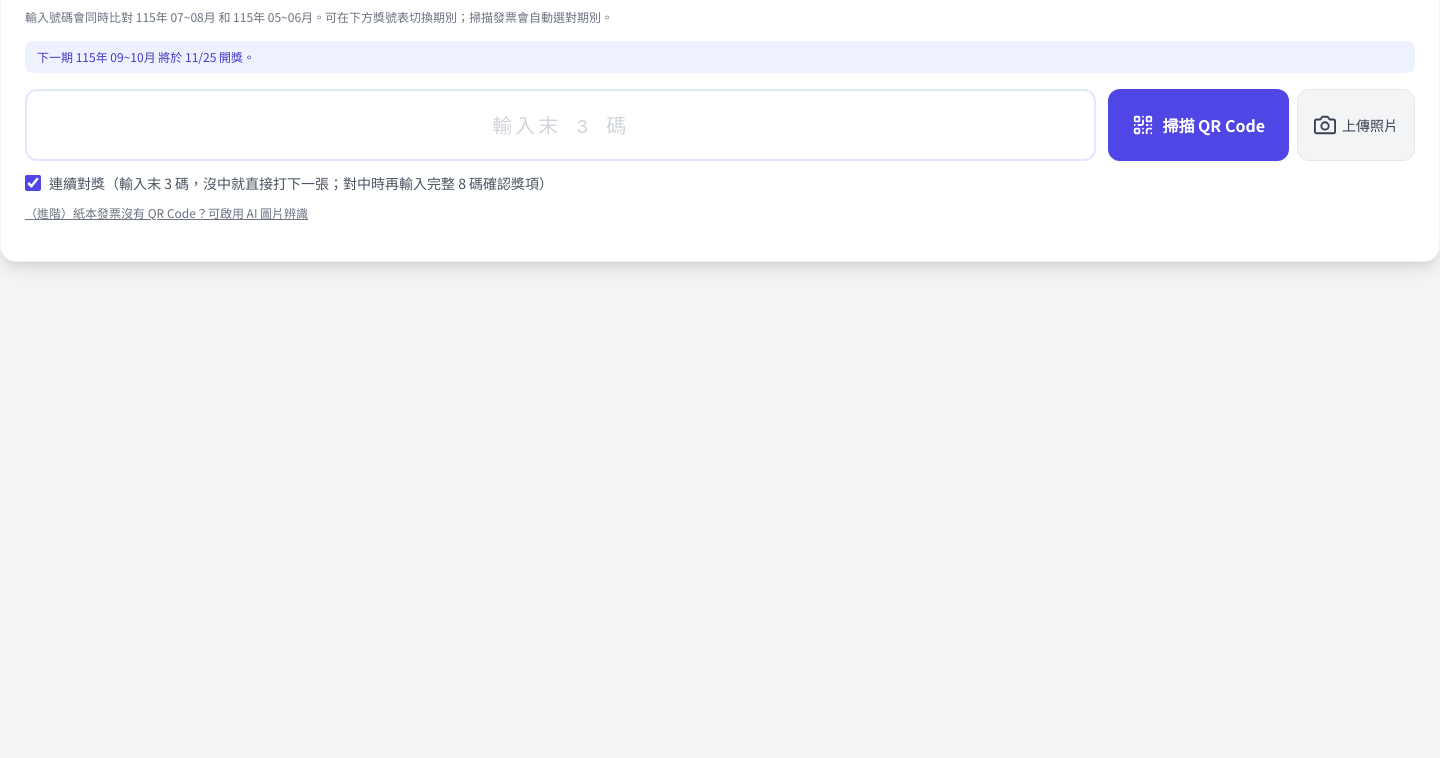
Test: 歷史紀錄 › 輸入停頓後自動存入，顯示日期、期別與結果
Type "54348835" into the field named "發票號碼" at (561, 125), box [25,89,1096,161]
Wait 12100 ms
(page scrolled)
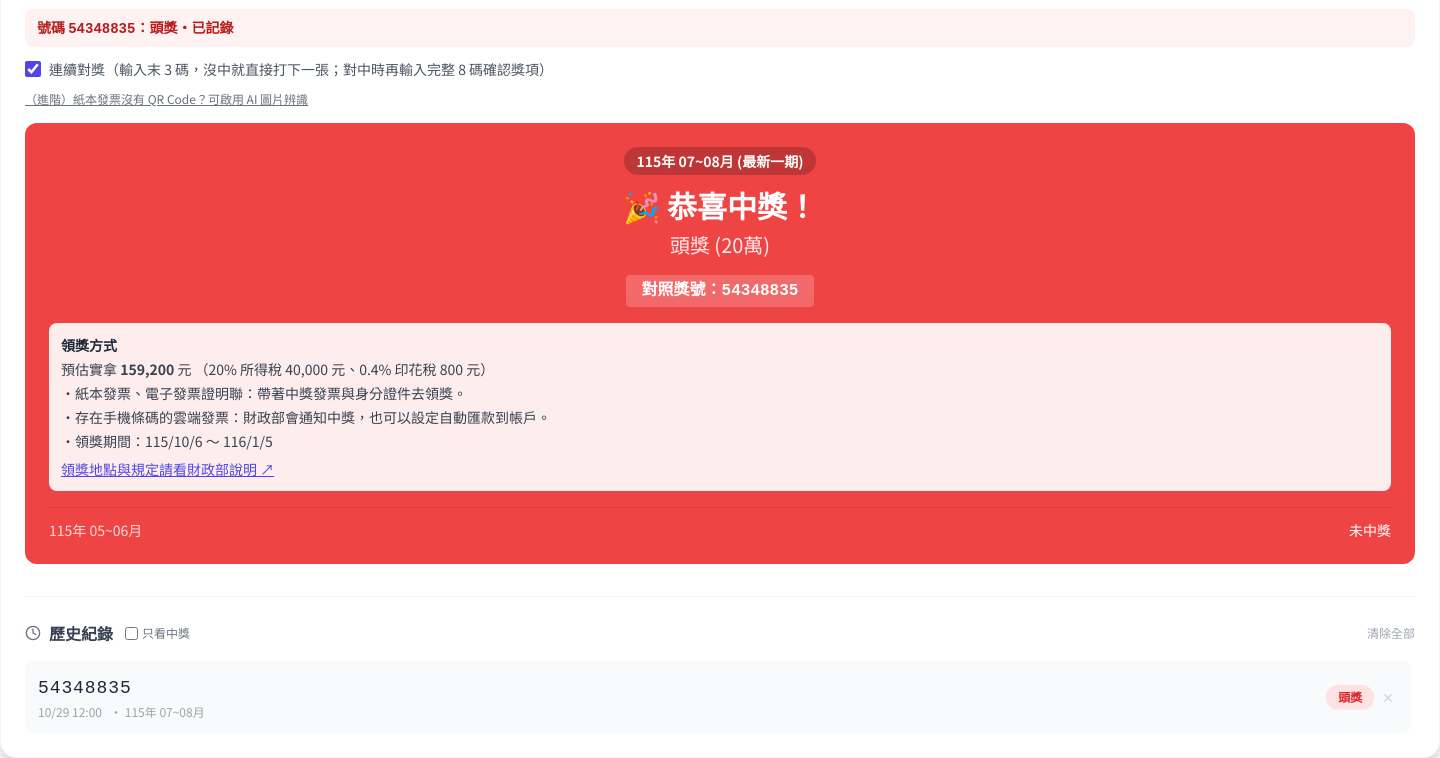
Result: the text "54348835" below "歷史紀錄" is shown at [38,678,132,698]
Result: the text "10/29 12:00" is shown at [38,704,102,720]
Result: the text "· 115年 07~08月" is shown at [110,704,205,720]
